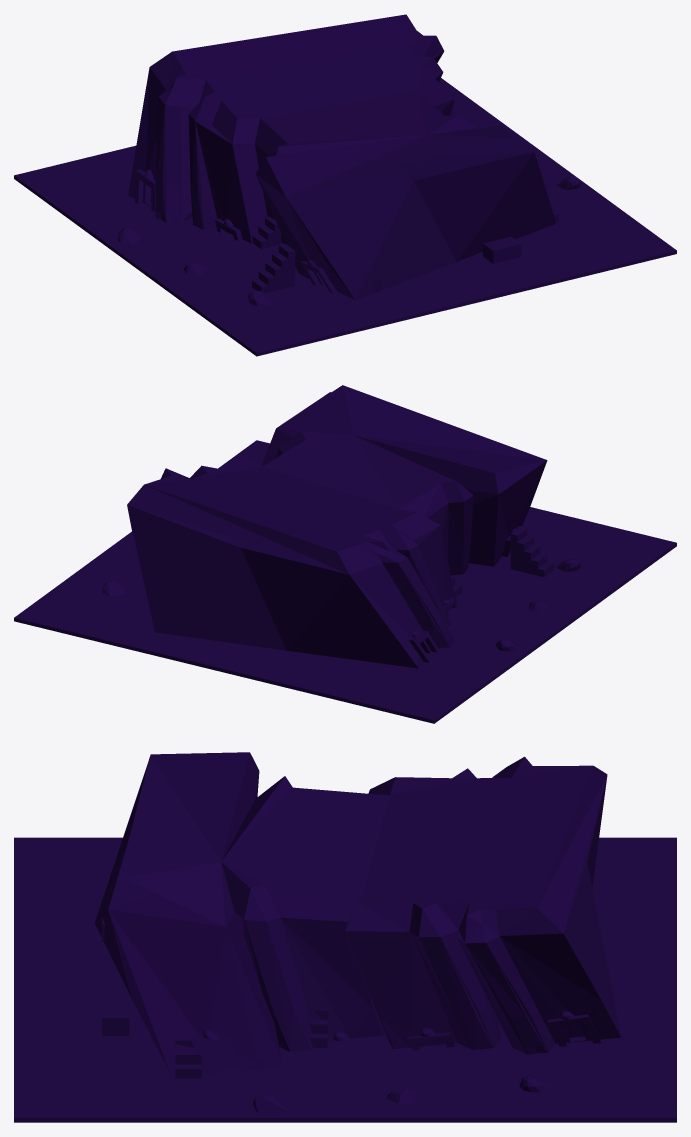
The model's file is rowhouses_oozed_c.FBX.
The picture shows the model from 3 angles, top to bottom: view 1: azimuth 30°, elevation 25°; view 2: azimuth 150°, elevation 25°; view 3: azimuth 270°, elevation 25°; orthographic projection. The views are drawn at different scales.
Parts seen in each view (by area): view 1: Layer:0, Layer:bldgconcrete, Layer:rowhouse1, Layer:street, Layer:rowhouse3, Layer:rowhouse2, Layer:wood, Layer:greenery, Layer:dumpster; view 2: Layer:0, Layer:bldgconcrete, Layer:street, Layer:rowhouse2, Layer:rowhouse4, Layer:rowhouse3, Layer:rowhouse1, Layer:greenery, Layer:wood; view 3: Layer:0, Layer:bldgconcrete, Layer:street, Layer:rowhouse1, Layer:rowhouse4, Layer:rowhouse3, Layer:rowhouse2, Layer:wood, Layer:greenery, Layer:dumpster.
Boxes of the visible parts, box(x1,y1,x2,y2) form: Layer:0: box(125, 14, 511, 245); Layer:bldgconcrete: box(49, 107, 641, 338); Layer:rowhouse1: box(188, 114, 556, 261); Layer:street: box(14, 78, 676, 356); Layer:rowhouse3: box(255, 73, 455, 299); Layer:rowhouse2: box(128, 67, 192, 222); Layer:wood: box(134, 169, 337, 293); Layer:greenery: box(117, 176, 580, 306); Layer:dumpster: box(370, 236, 521, 292); Layer:0: box(124, 385, 546, 664); Layer:bldgconcrete: box(49, 455, 641, 705); Layer:street: box(14, 440, 676, 723); Layer:rowhouse2: box(241, 448, 454, 668); Layer:rowhouse4: box(127, 495, 473, 650); Layer:rowhouse3: box(467, 460, 547, 566); Layer:rowhouse1: box(261, 392, 455, 626); Layer:greenery: box(102, 549, 580, 651); Layer:wood: box(409, 526, 523, 662); Layer:0: box(122, 752, 607, 1064); Layer:bldgconcrete: box(48, 852, 642, 1103); Layer:street: box(14, 837, 676, 1122); Layer:rowhouse1: box(108, 790, 369, 1075); Layer:rowhouse4: box(457, 861, 621, 1054); Layer:rowhouse3: box(94, 756, 500, 1049); Layer:rowhouse2: box(243, 768, 607, 1051); Layer:wood: box(190, 1011, 601, 1076); Layer:greenery: box(253, 1075, 552, 1113); Layer:dumpster: box(102, 918, 129, 1035).
Bounding box in the file's own units: 4000 × 1078 × 4000.
